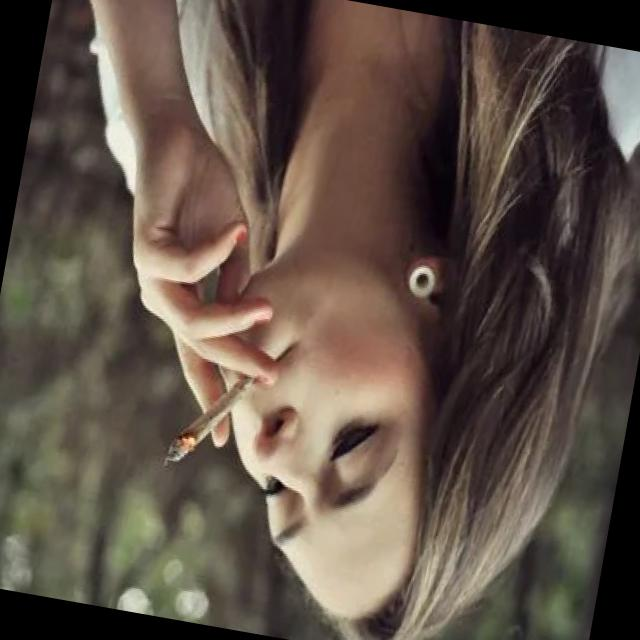cigarette: (162, 360, 260, 477)
